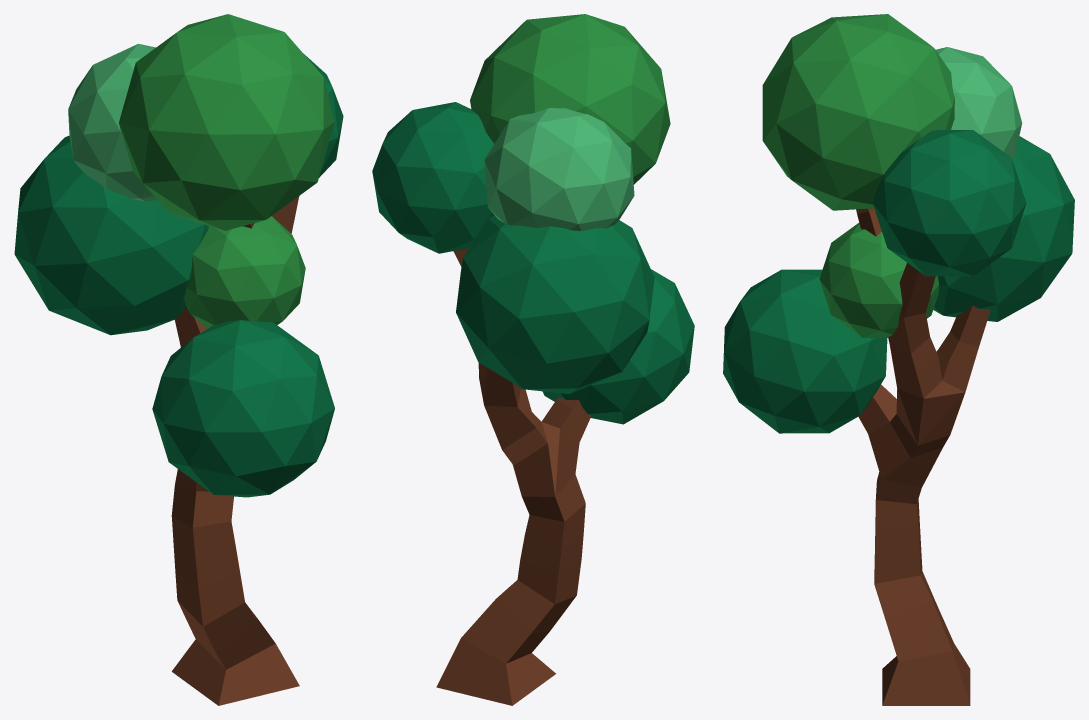
Rendered from Trees.fbx.
3 views of the same model, side by side, from view 1: azimuth 30°, elevation 25°; view 2: azimuth 150°, elevation 25°; view 3: azimuth 270°, elevation 25° (orthographic). The views are drawn at different scales.
Parts seen in each view (by area): view 1: Icosphere.001, Icosphere.003, Icosphere, Tree1, Icosphere.005, Icosphere.004, Icosphere.002; view 2: Icosphere, Tree1, Icosphere.001, Icosphere.004, Icosphere.002, Icosphere.003; view 3: Tree1, Icosphere.001, Icosphere.003, Icosphere.002, Icosphere, Icosphere.005, Icosphere.004.
Part boxes in pixels (left/top/right/bottom): Icosphere.001: left=119, top=14, right=334, bottom=230; Icosphere.003: left=152, top=320, right=334, bottom=497; Icosphere: left=14, top=135, right=208, bottom=335; Tree1: left=171, top=196, right=299, bottom=705; Icosphere.005: left=184, top=216, right=305, bottom=328; Icosphere.004: left=68, top=44, right=157, bottom=201; Icosphere.002: left=303, top=53, right=343, bottom=177; Icosphere: left=456, top=215, right=654, bottom=393; Tree1: left=436, top=248, right=591, bottom=705; Icosphere.001: left=470, top=14, right=670, bottom=184; Icosphere.004: left=484, top=108, right=634, bottom=230; Icosphere.002: left=372, top=102, right=494, bottom=253; Icosphere.003: left=542, top=269, right=694, bottom=424; Tree1: left=856, top=208, right=990, bottom=705; Icosphere.001: left=762, top=14, right=954, bottom=210; Icosphere.003: left=723, top=269, right=887, bottom=433; Icosphere.002: left=872, top=130, right=1026, bottom=276; Icosphere: left=933, top=136, right=1074, bottom=321; Icosphere.005: left=819, top=223, right=938, bottom=337; Icosphere.004: left=936, top=47, right=1022, bottom=159.
Size of the model in its own units: 202 by 459 by 227.
